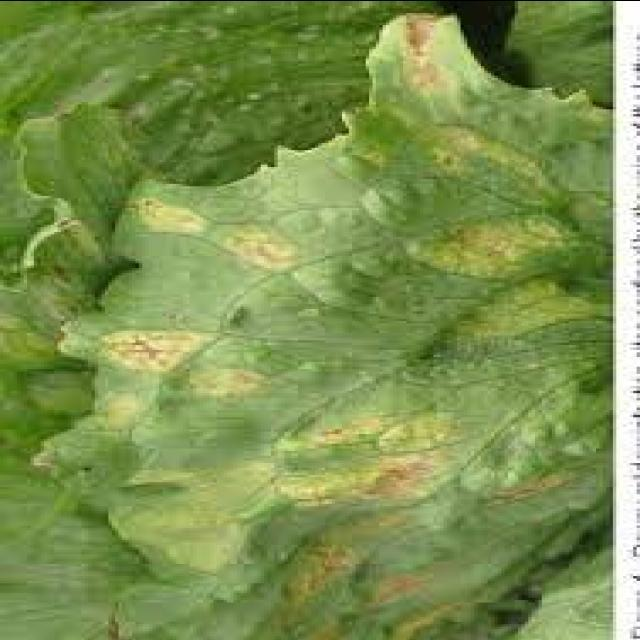Mature: (34, 10, 581, 602)
